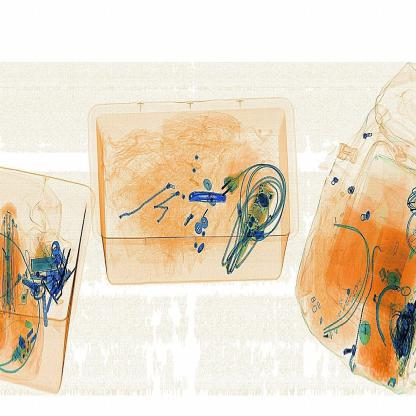knife: (183, 186, 238, 212)
